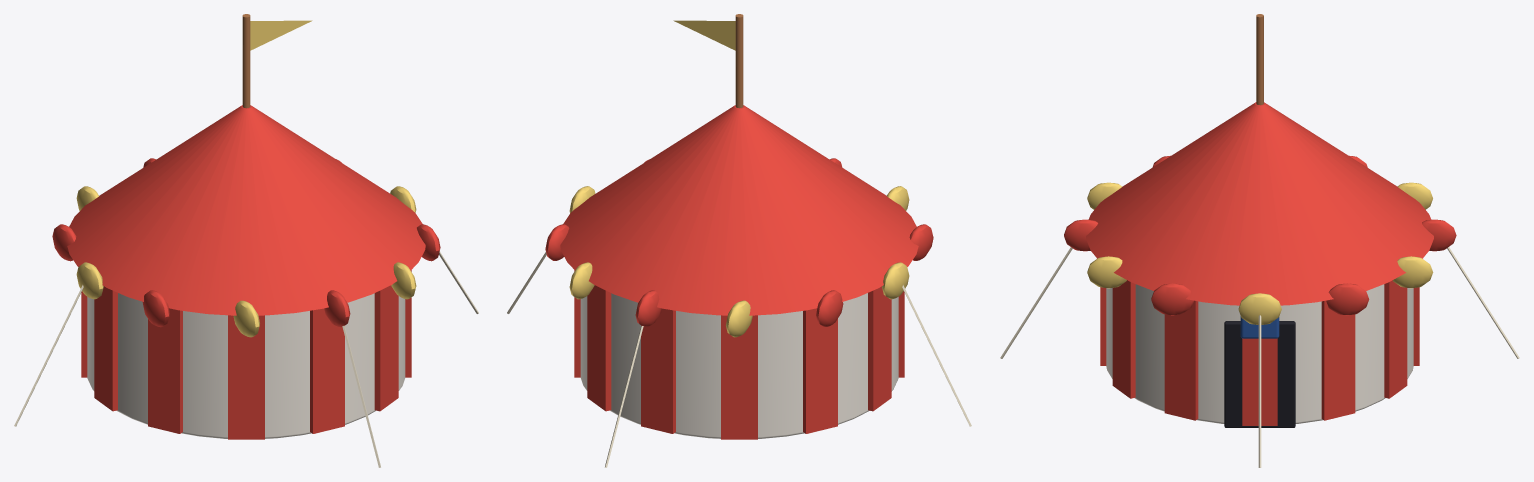
File: pavilion.glb
3 views of the same model, side by side, from view 1: azimuth 30°, elevation 25°; view 2: azimuth 150°, elevation 25°; view 3: azimuth 270°, elevation 25° (orthographic). The views are drawn at different scales.
Visible parts, largest first — view 1: pavilion; view 2: pavilion; view 3: pavilion.
Boxes of the visible parts, x1=… form: pavilion: x1=14, y1=14, x2=478, y2=467; pavilion: x1=507, y1=14, x2=971, y2=467; pavilion: x1=1000, y1=14, x2=1519, y2=467.
Bounding box in the file's own units: 8.03 × 5.9 × 8.03.
1 material, 1 textured.
